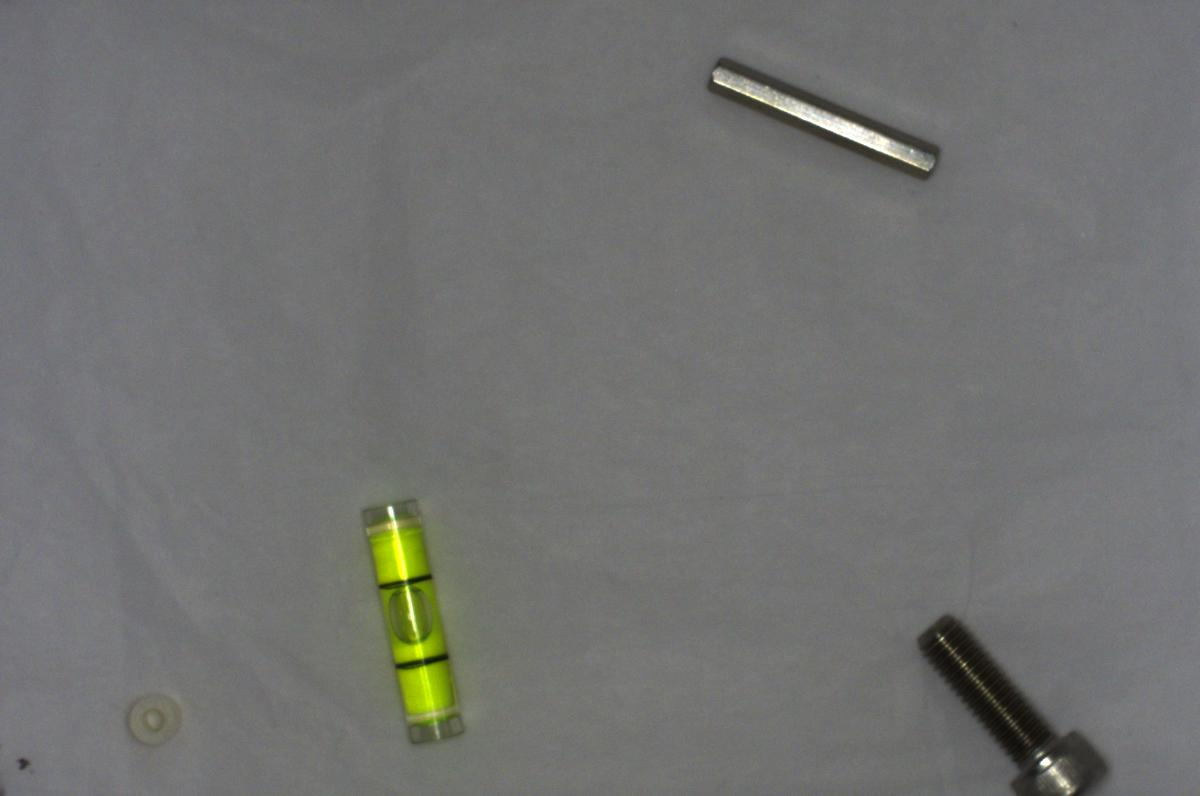Double hexagonal column: (704, 55, 952, 186)
Hexagon screw: (911, 609, 1107, 795)
Horizontal bubble: (352, 486, 466, 749)
Plastic cushion pillar: (119, 685, 192, 753)
